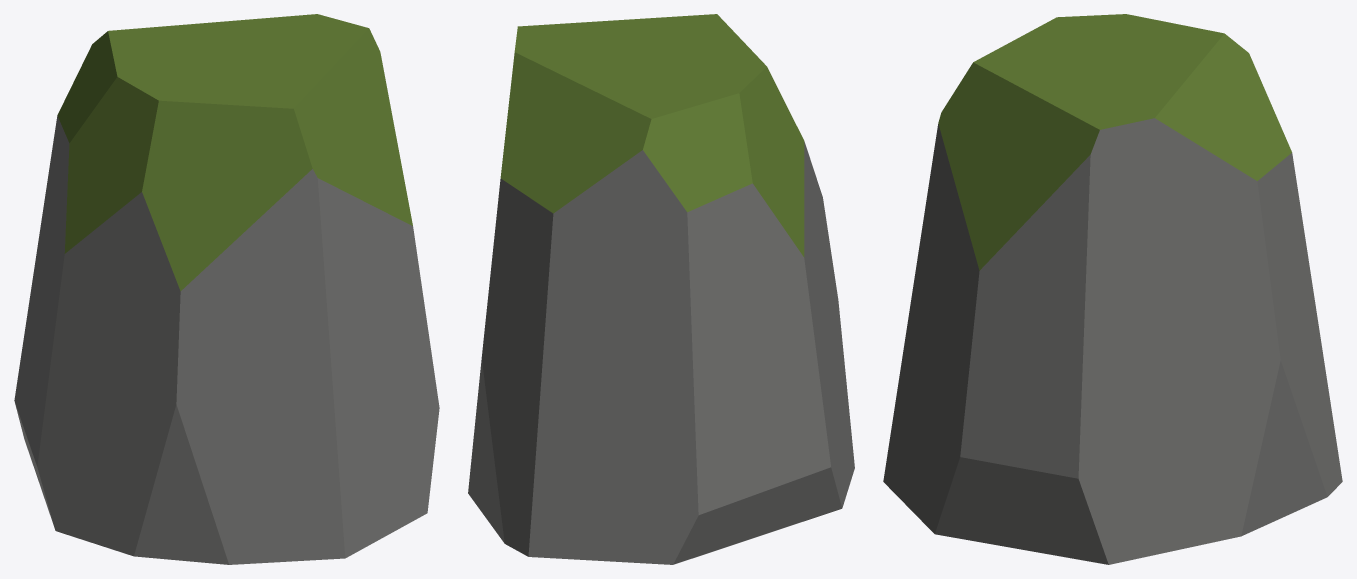
Rendered from Rock_6.fbx.
3 views of the same model, side by side, from view 1: azimuth 30°, elevation 25°; view 2: azimuth 150°, elevation 25°; view 3: azimuth 270°, elevation 25° (orthographic).
Parts seen in each view (by area): view 1: Rock_6; view 2: Rock_6; view 3: Rock_6.
Part boxes in pixels (bbox=[...]): Rock_6: bbox=[14, 14, 439, 564]; Rock_6: bbox=[468, 14, 854, 564]; Rock_6: bbox=[883, 14, 1342, 564].
Size of the model in its own units: 137 by 149 by 149.
